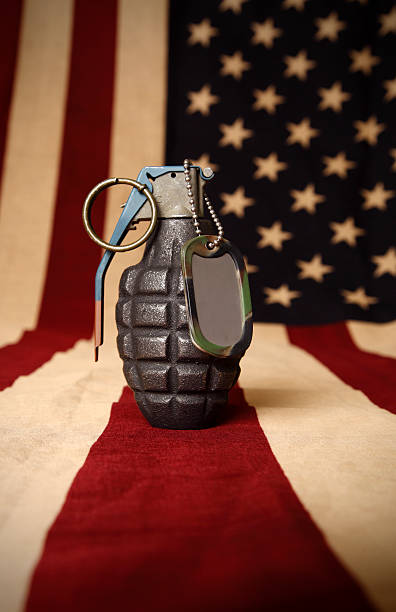e1: (82, 157, 258, 430)
